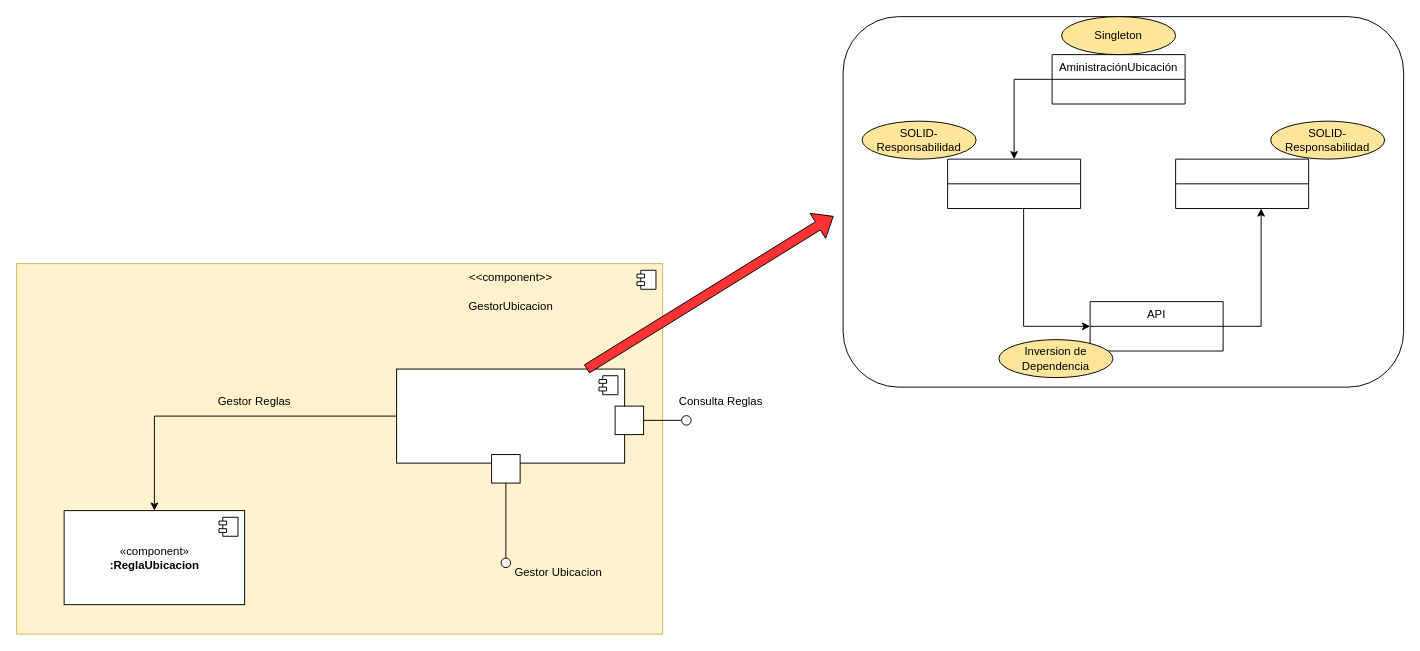
Image size: 1420x651. Some labels were removed from this diagram. The shapes that lost their labels are listed below. From the top down, each one's centre as x and y in pixels, then its label:
At pixel 1014 183: "Entrada de petición".
At pixel 1242 183: "Salida de petición".
At pixel 510 415: "«component» :AdministracionUbicacion".
